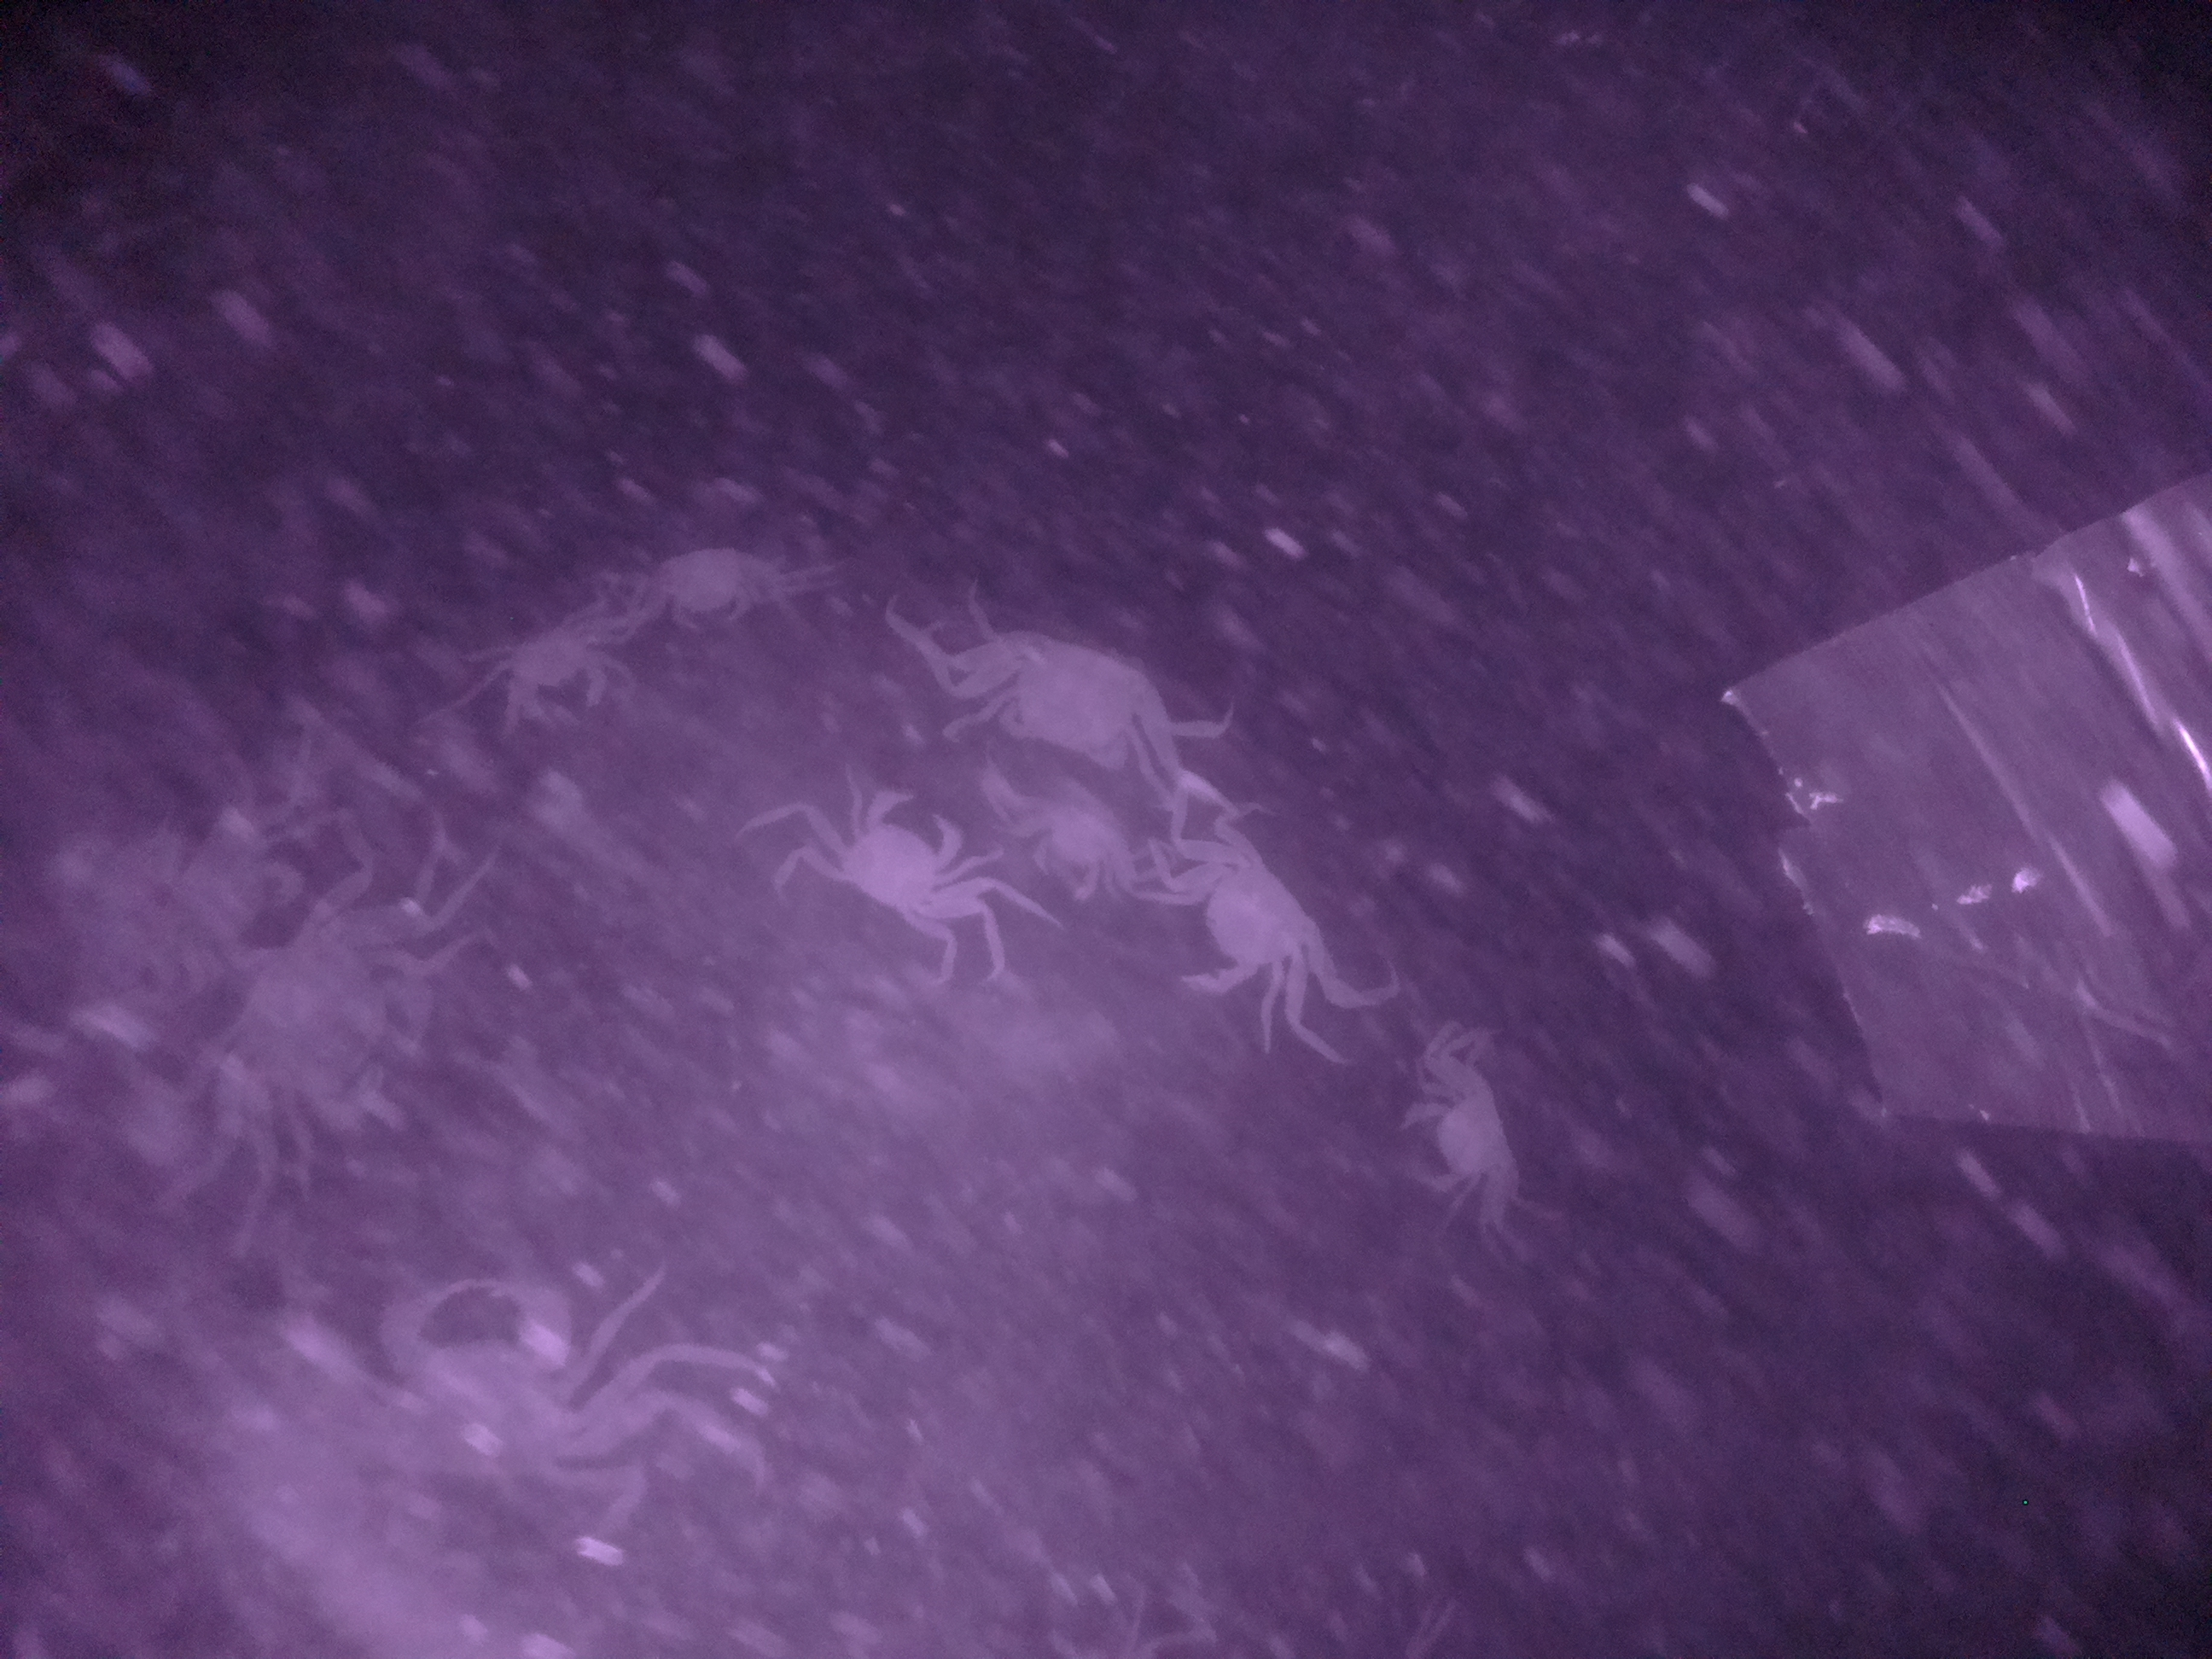Crab: (1134, 807, 1345, 1016), (967, 612, 1183, 791), (794, 774, 1007, 925), (1388, 1054, 1531, 1209), (632, 530, 792, 653), (498, 603, 634, 742)
